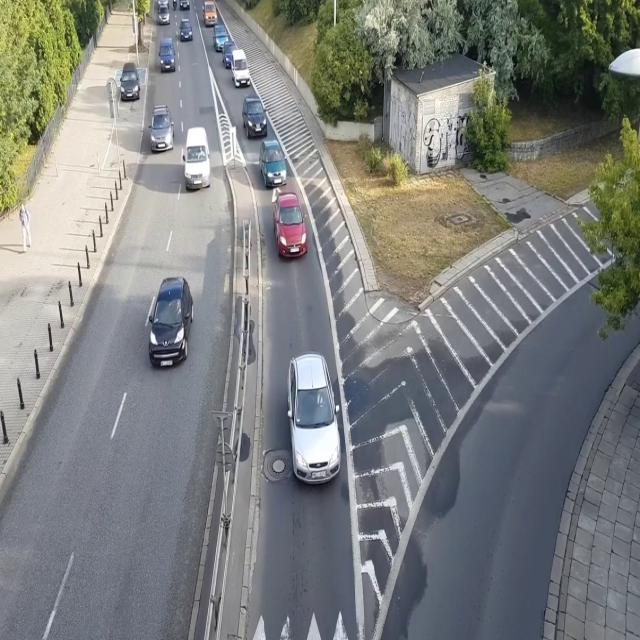car: (285, 352, 344, 487), (147, 275, 195, 369), (270, 190, 310, 259), (259, 138, 288, 188), (149, 105, 175, 153), (242, 94, 269, 138), (119, 62, 141, 102), (222, 40, 239, 70), (212, 23, 229, 53), (200, 0, 217, 26), (179, 17, 193, 44), (157, 4, 170, 26), (179, 0, 190, 10), (156, 0, 168, 8)
motorcycle: (171, 0, 178, 13)
van: (182, 126, 211, 190), (230, 49, 251, 89), (158, 36, 176, 72)
